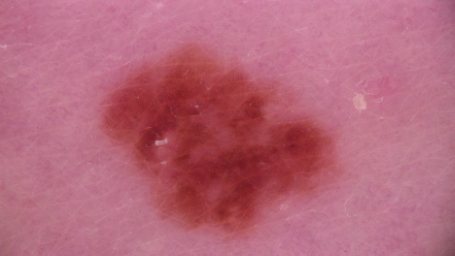nevus: (107, 54, 338, 233)
